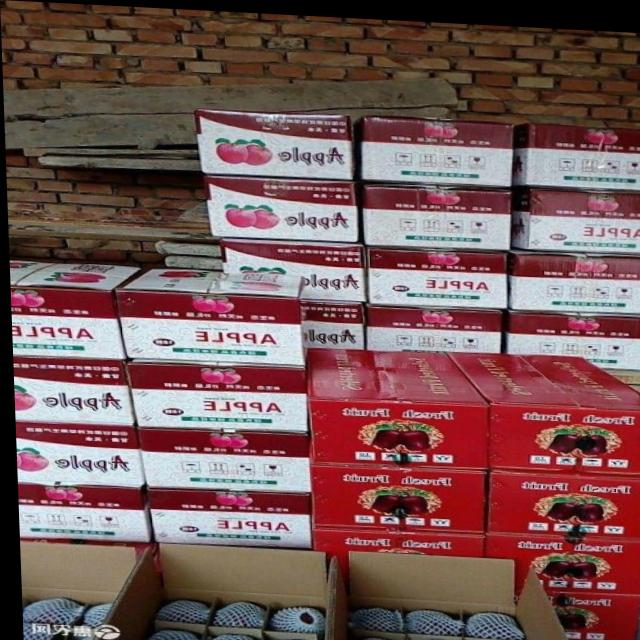box: (442, 347, 640, 473), (305, 345, 487, 465), (113, 267, 303, 363), (123, 358, 305, 429), (9, 260, 139, 358), (306, 462, 485, 532), (351, 111, 513, 181), (193, 106, 352, 176), (308, 525, 481, 589), (134, 426, 306, 490), (483, 467, 640, 534), (354, 180, 510, 245), (202, 173, 357, 238), (142, 486, 307, 546), (217, 234, 365, 299), (480, 529, 640, 588), (511, 117, 640, 186), (509, 181, 640, 248), (505, 242, 640, 307), (499, 301, 640, 363), (363, 243, 505, 304), (12, 355, 133, 424), (14, 421, 140, 487), (15, 483, 148, 540), (364, 299, 499, 349), (541, 587, 640, 638), (297, 296, 361, 346)
